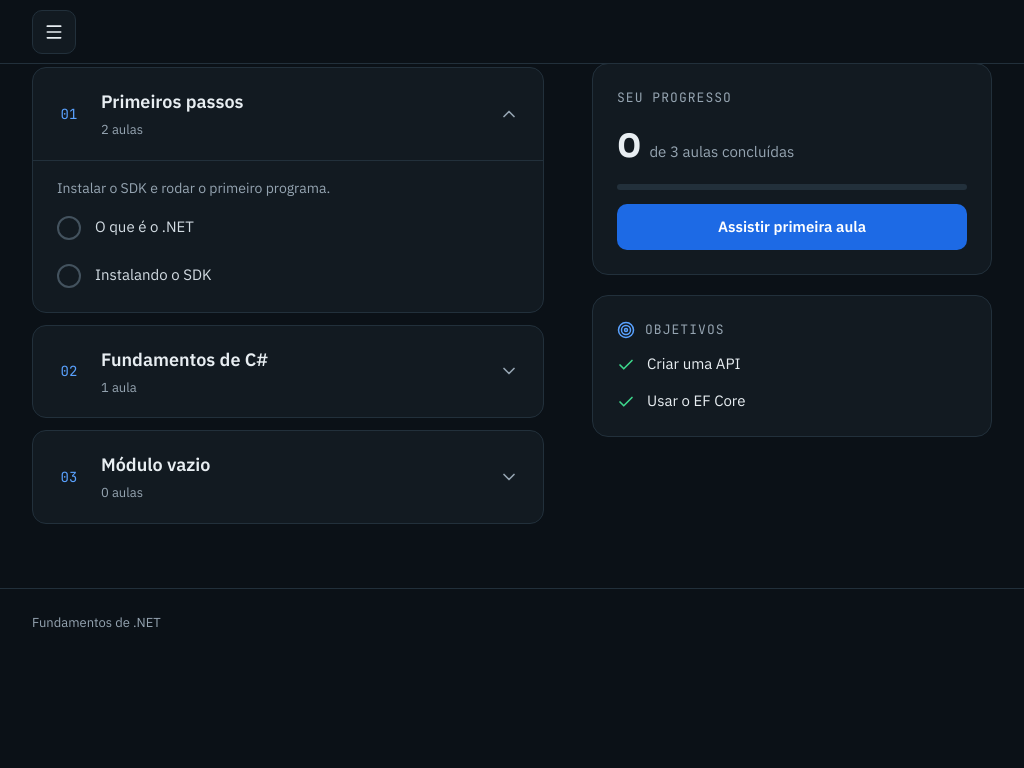
it: video lessons intro screen › opens another module in the accordion and says when it has no lessons
(page scrolled)
Click the button "03 Módulo vazio 0 aulas".
click(156, 465)  # box left=33, top=431, right=543, bottom=523
(page scrolled)
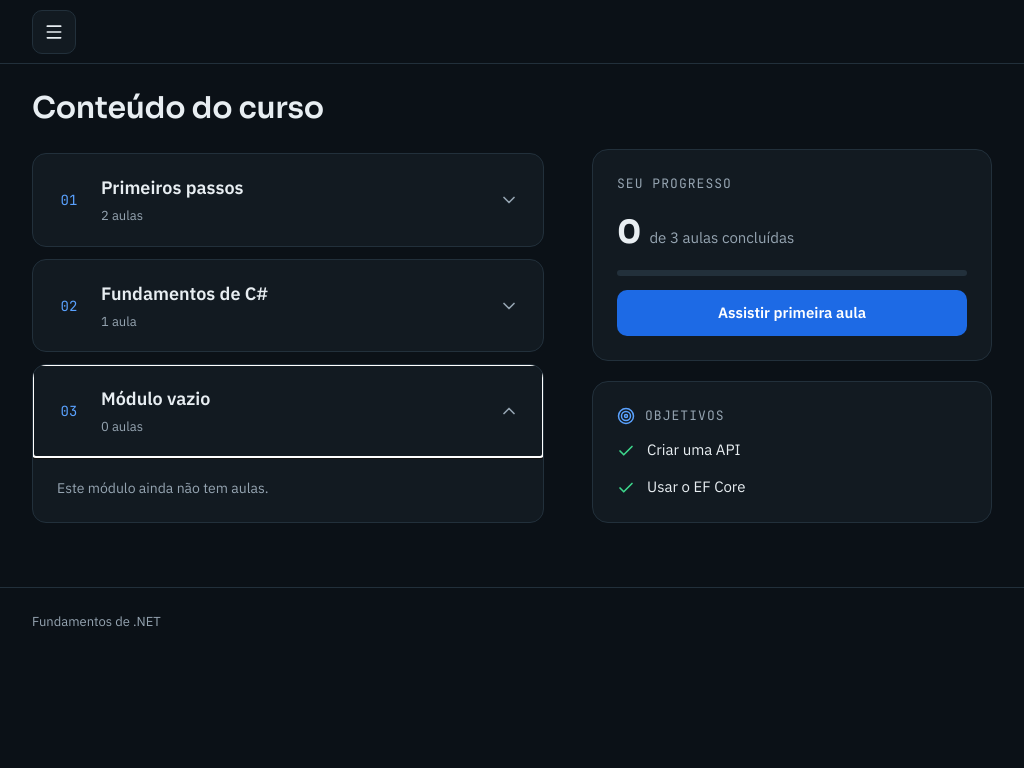
Now the text "Este módulo ainda não tem aulas." is shown, box left=57, top=479, right=269, bottom=497
Now the button "O que é o .NET" is gone
